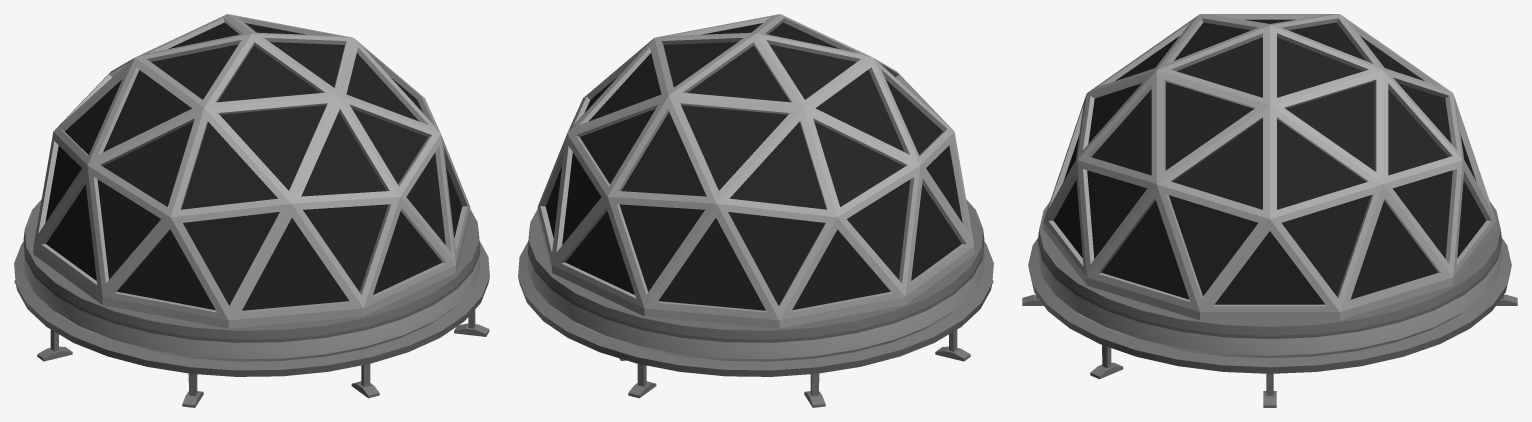
File: GeodesicDome_Cube.obj
The picture shows the model from 3 angles, left to right: view 1: azimuth 30°, elevation 25°; view 2: azimuth 150°, elevation 25°; view 3: azimuth 270°, elevation 25°; orthographic projection.
Parts seen in each view (by area): view 1: GeodesicDome_Cube.020; view 2: GeodesicDome_Cube.020; view 3: GeodesicDome_Cube.020.
Boxes of the visible parts, <box> form: GeodesicDome_Cube.020: <box>14,14,489,407</box>; GeodesicDome_Cube.020: <box>518,14,993,407</box>; GeodesicDome_Cube.020: <box>1022,14,1517,407</box>.
Bounding box in the file's own units: 8.53 × 5.28 × 8.53.
